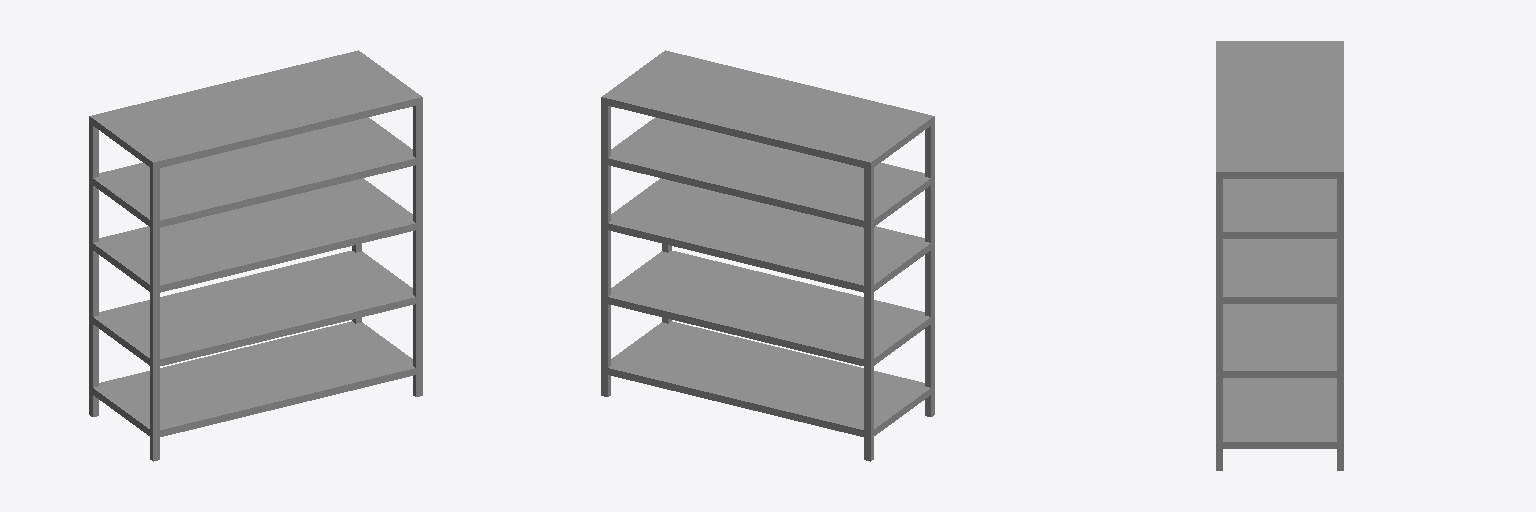
Rendered from rack.obj.
3 views of the same model, side by side, from view 1: azimuth 30°, elevation 25°; view 2: azimuth 150°, elevation 25°; view 3: azimuth 270°, elevation 25° (orthographic).
Visible parts, largest first — view 1: Cube; view 2: Cube; view 3: Cube.
Boxes of the visible parts, x1,y1,x2,y2 form: Cube: [89, 50, 422, 461]; Cube: [601, 50, 934, 461]; Cube: [1216, 41, 1343, 470].
Size of the model in its own units: 1.86 by 1.97 by 0.7639.